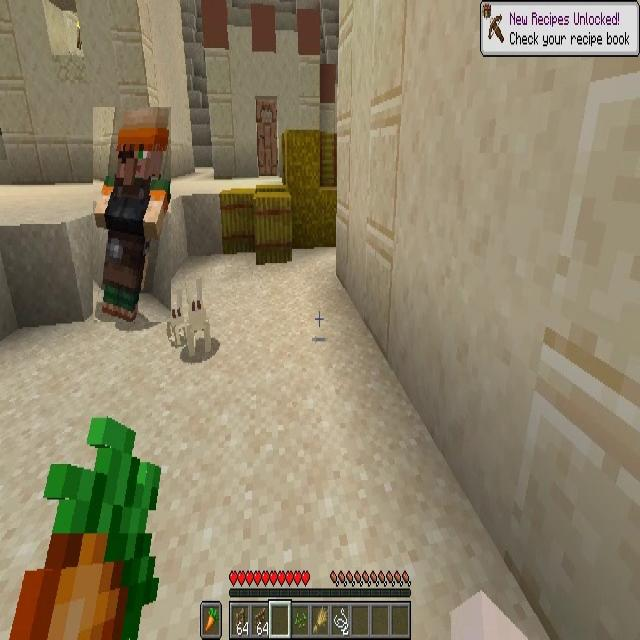people: (94, 107, 172, 322)
rabbit: (186, 280, 208, 354), (165, 286, 185, 350)
